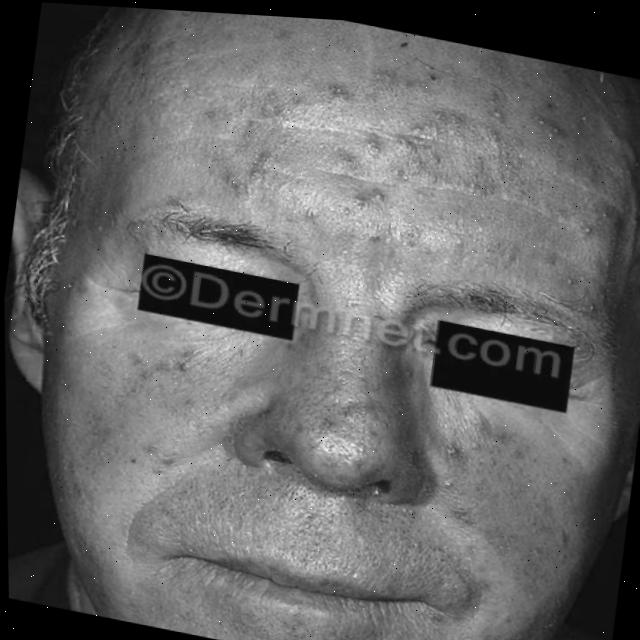Rosacea: (82, 338, 600, 570), (237, 14, 573, 285)
